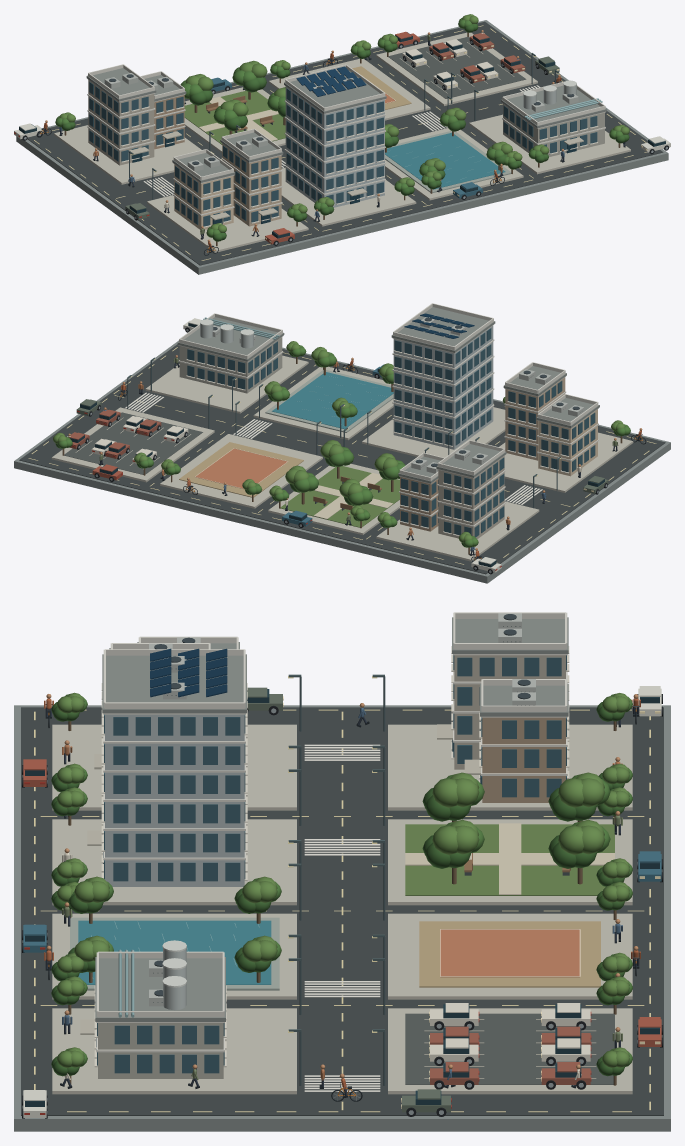
The model's file is urban-microclimate-district.glb.
3 views of the same model, one above another, from view 1: azimuth 30°, elevation 25°; view 2: azimuth 150°, elevation 25°; view 3: azimuth 270°, elevation 25° (orthographic). The views are drawn at different scales.
Parts seen in each view (by area): view 1: Urban microclimate district; view 2: Urban microclimate district; view 3: Urban microclimate district.
Part boxes in pixels (x1,y1,x2,y2): Urban microclimate district: (14, 14, 670, 274); Urban microclimate district: (14, 303, 670, 583); Urban microclimate district: (14, 612, 670, 1131).
Size of the model in its own units: 71.6 by 16.39 by 47.
